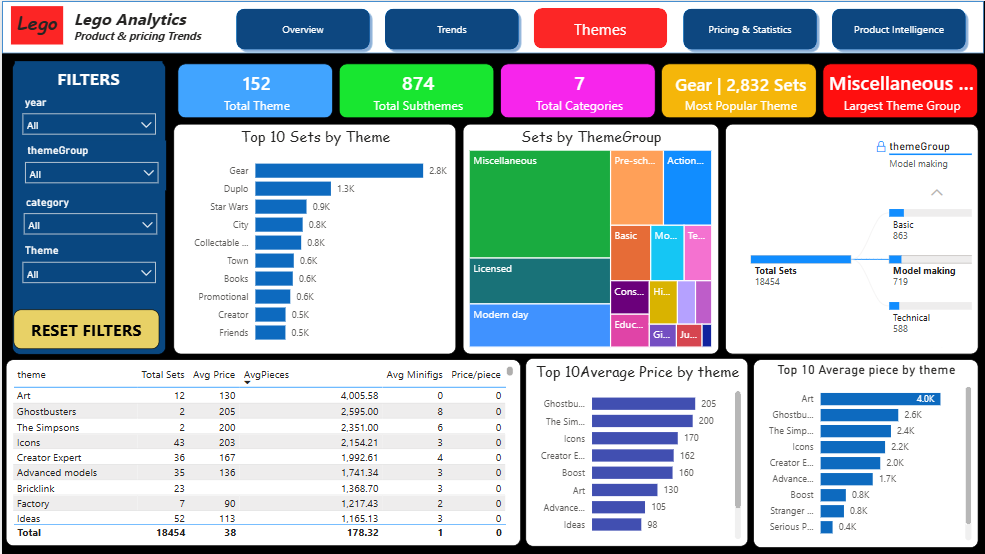

Layout of this report page (visuals, bound fields, positions):
{"tool":"powerbi","page":{"name":"Themes","canvas":[1280,720],"ordinal":2},"visuals":[{"type":"shape","box":[0,0,1278.3,68.3],"z":0},{"type":"shape","box":[13.3,78.3,200,381.7],"z":1000},{"type":"cardVisual","fields":{"Data":["lego_sets.Total Theme","lego_sets.Total Subthemes","lego_sets.Total Categories","lego_sets.Most Popular Theme","lego_sets.Largest Theme Group"]},"box":[221.7,76.7,1056.7,81.7],"z":2000},{"type":"barChart","title":" Top 10 Average piece by theme","fields":{"Y":["Avg(lego_sets.pieces)"],"Category":["lego_sets.theme"]},"box":[978.3,466.7,293.3,245],"z":3000},{"type":"slicer","fields":{"Values":["lego_sets.year"]},"box":[17.2,117.7,193.7,63.8],"z":4000},{"type":"slicer","fields":{"Values":["lego_sets.themeGroup"]},"box":[19.6,181.5,193.7,65],"z":5000},{"type":"slicer","fields":{"Values":["lego_sets.category"]},"box":[18.4,247.7,193.7,63.8],"z":6000},{"type":"slicer","fields":{"Values":["lego_sets.theme"]},"box":[17.2,311.5,193.7,82.1],"z":7000},{"type":"textbox","box":[17.2,78.5,192.5,45.4],"z":8000},{"type":"actionButton","title":"RESET FILTRRS","box":[14.7,401,190.1,51.5],"z":9000},{"type":"shape","box":[18.4,483.1,196.2,128.8],"z":10000},{"type":"barChart","title":" Top 10 Sets by Theme","fields":{"Category":["lego_sets.theme"],"Y":["Count(lego_sets.set_id)"]},"box":[223.3,160,368.3,300],"z":11000},{"type":"treemap","title":" Sets by ThemeGroup","fields":{"Values":["CountNonNull(lego_sets.set_id)"],"Details":["lego_sets.themeGroup"]},"box":[600,160,333.3,300],"z":12000},{"type":"barChart","title":" Top 10Average Price by theme","fields":{"Category":["lego_sets.theme"],"Y":["Avg(lego_sets.US_retailPrice)"]},"box":[681.7,465,290,245],"z":13000},{"type":"decompositionTreeVisual","fields":{"ExplainBy":["lego_sets.themeGroup","lego_sets.theme","lego_sets.category","lego_sets.subtheme"],"Analyze":["lego_sets.Total Sets"]},"box":[941.7,160,330,300],"z":14000},{"type":"tableEx","fields":{"Values":["lego_sets.theme","lego_sets.Total Sets","lego_sets.Average Price","lego_sets.Average Pieces","lego_sets.Average Minifigs","lego_sets.Price Per Piece"]},"box":[5,466.7,670,243.3],"z":15000},{"type":"pageNavigator","box":[300,5,965,63.3],"z":16000},{"type":"textbox","box":[11.7,6.7,68.3,50],"z":17000},{"type":"textbox","box":[88.3,3.3,205,60],"z":18000}]}

Visuals, with their boxes in screenshot pixels (x1, y1, x2, y2), scaled from the page's 1280x720 canvas onto the 985x554 screenshot:
shape: 0 0 984 53
shape: 10 60 164 354
cardVisual - lego_sets.Total Theme x lego_sets.Total Subthemes: 171 59 984 122
" Top 10 Average piece by theme" barChart: 753 359 979 548
slicer - lego_sets.year: 13 91 162 140
slicer - lego_sets.themeGroup: 15 140 164 190
slicer - lego_sets.category: 14 191 163 240
slicer - lego_sets.theme: 13 240 162 303
textbox: 13 60 161 95
"RESET FILTRRS" actionButton: 11 309 158 348
shape: 14 372 165 471
" Top 10 Sets by Theme" barChart: 172 123 455 354
" Sets by ThemeGroup" treemap: 462 123 718 354
" Top 10Average Price by theme" barChart: 525 358 748 546
decompositionTreeVisual - lego_sets.themeGroup x lego_sets.theme: 725 123 979 354
tableEx - lego_sets.theme x lego_sets.Total Sets: 4 359 519 546
pageNavigator: 231 4 973 53
textbox: 9 5 62 44
textbox: 68 3 226 49
